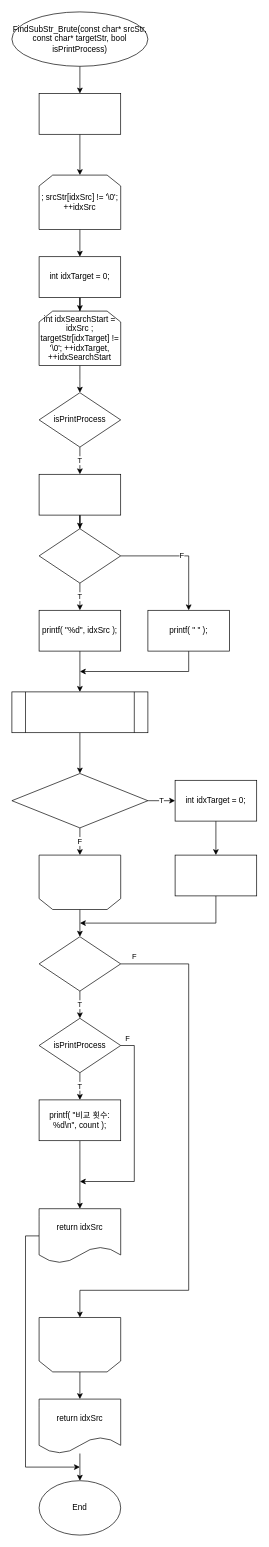
Image size: 269x1547. Some labels were removed from this diagram. Here are the shapes that lost their labels. From the top down, the centre of each, then its label:
At (x=79, y=113): "int idxSrc = 0; int count = 0;".
At (x=79, y=494): "++count;".
At (x=79, y=555): "idxTarget == 0".
At (x=79, y=712): "PrintStrSearch( srcStr, targetStr, idxSrc, idxSearchStart, idxTarget );".
At (x=79, y=800): "srcStr[idxSearchStart] != targetStr[idxTarget]".
At (x=215, y=875): "break".
At (x=79, y=963): "targetStr[idxTarget] == '\0'".
